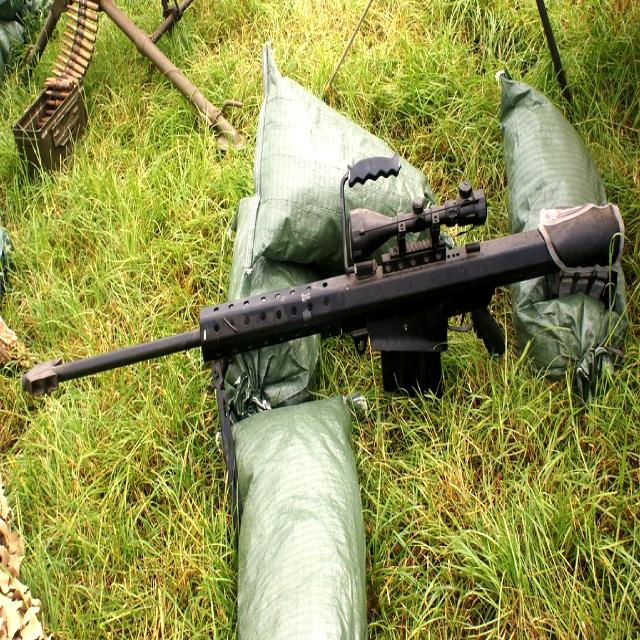rifle: (24, 180, 629, 429)
